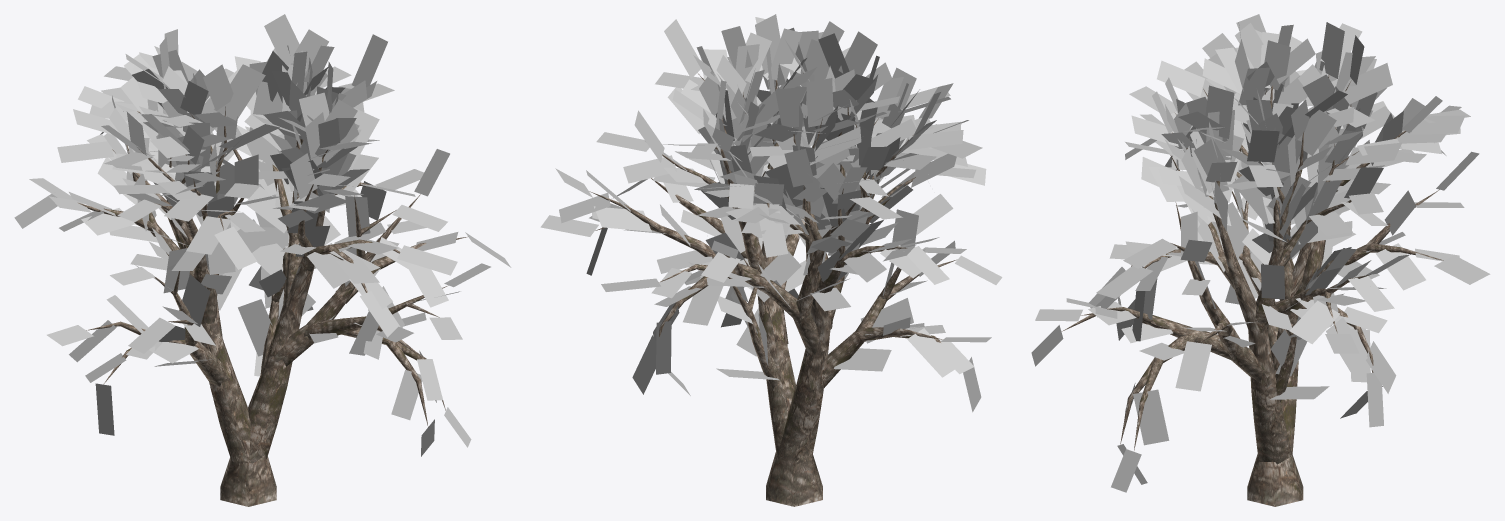
File: PlanicieTrees.fbx
The picture shows the model from 3 angles, left to right: view 1: azimuth 30°, elevation 25°; view 2: azimuth 150°, elevation 25°; view 3: azimuth 270°, elevation 25°; orthographic projection. The views are drawn at different scales.
Parts seen in each view (by area): view 1: PlanicieTreeLeaves_LOD0, PlanicieTree_LOD0; view 2: PlanicieTreeLeaves_LOD0, PlanicieTree_LOD0; view 3: PlanicieTreeLeaves_LOD0, PlanicieTree_LOD0.
Part boxes in pixels (box(x1,y1,x2,y2)): PlanicieTreeLeaves_LOD0: box(14, 14, 511, 456); PlanicieTree_LOD0: box(77, 106, 467, 506); PlanicieTreeLeaves_LOD0: box(540, 14, 1002, 412); PlanicieTree_LOD0: box(589, 73, 957, 506); PlanicieTreeLeaves_LOD0: box(1031, 14, 1490, 492); PlanicieTree_LOD0: box(1061, 75, 1443, 506).
Size of what is drawn, in the model's own units: 6.92 by 7.24 by 6.69.
